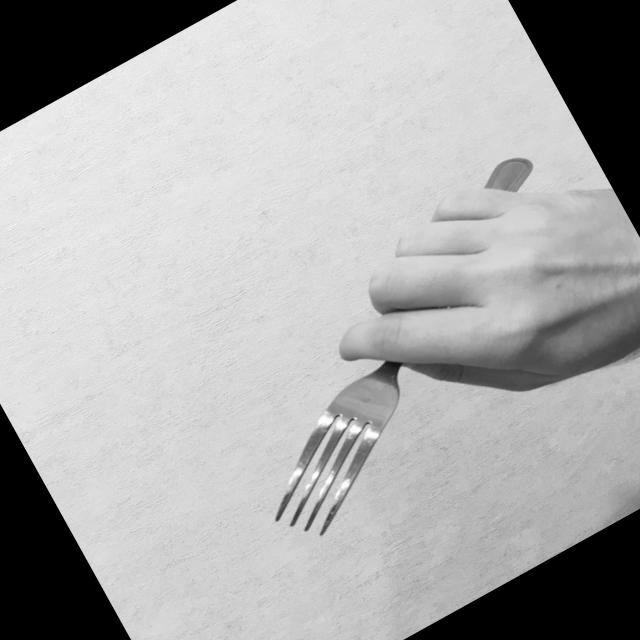fork: (171, 146, 640, 556)
